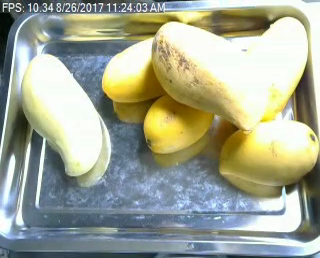Mango: (152, 20, 266, 131), (19, 54, 103, 178), (242, 16, 308, 121), (219, 122, 320, 185), (101, 35, 165, 101), (144, 94, 216, 152)
